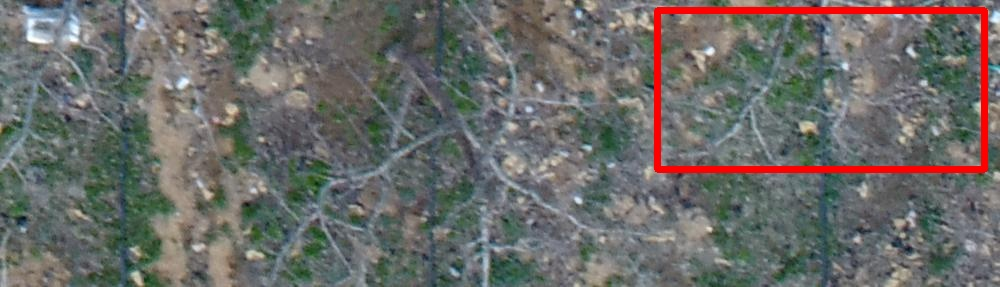apple: (657, 10, 984, 169)
